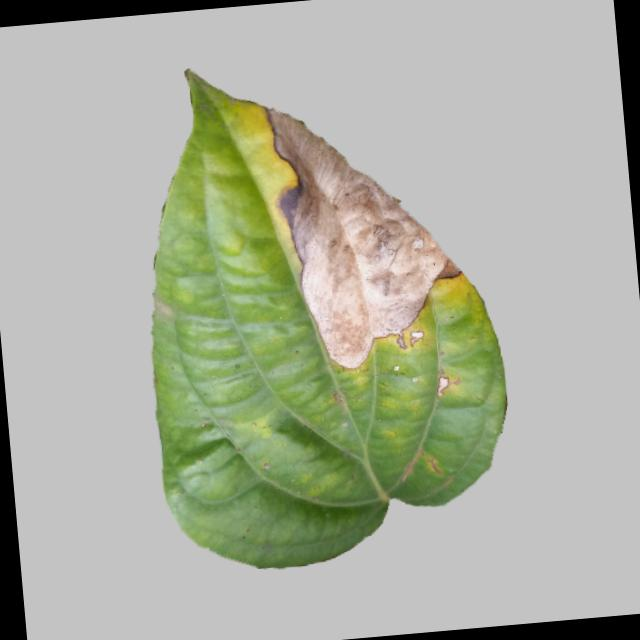leaf-blight: (127, 41, 528, 578)
